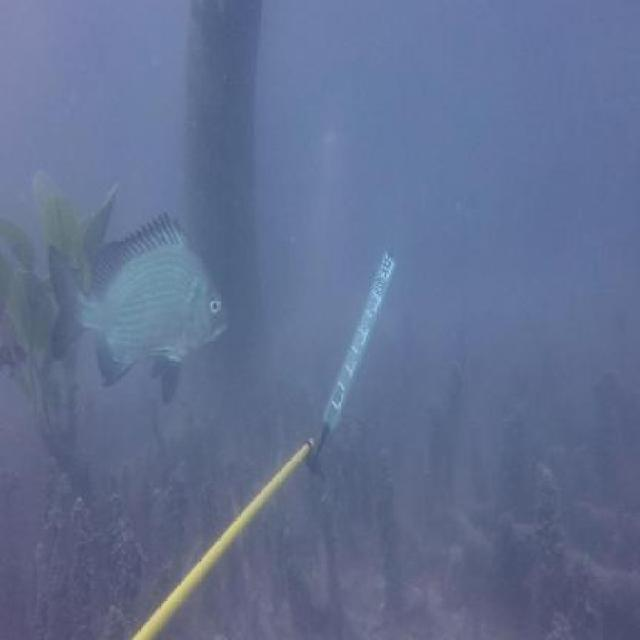acanthopagrus_palmaris: (43, 207, 231, 404)
